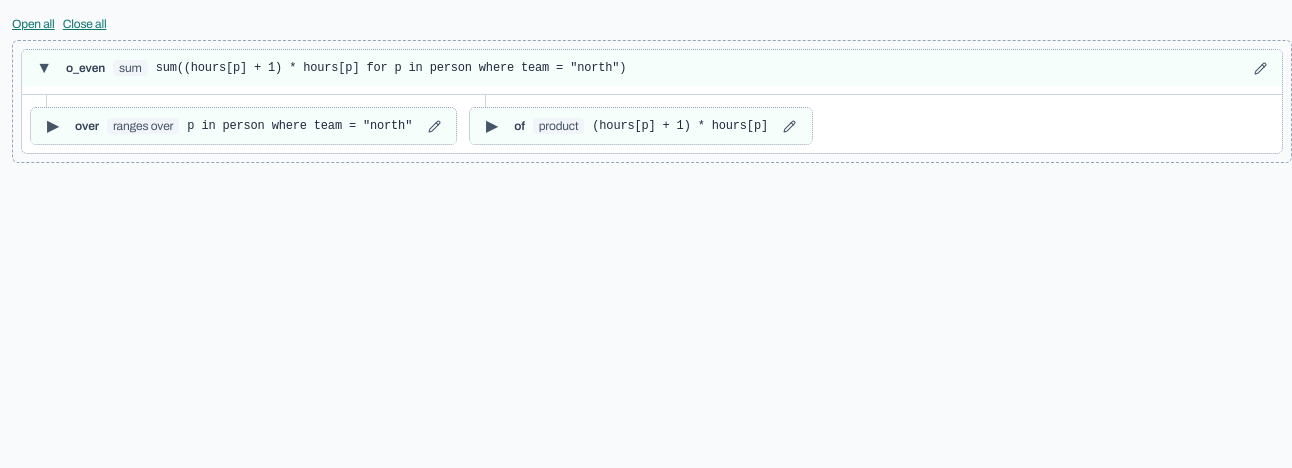
Test: walks down a goal recursively, one box at a time, to its leaves
Click the button named "Open over": (53, 126) [39,112,67,140]
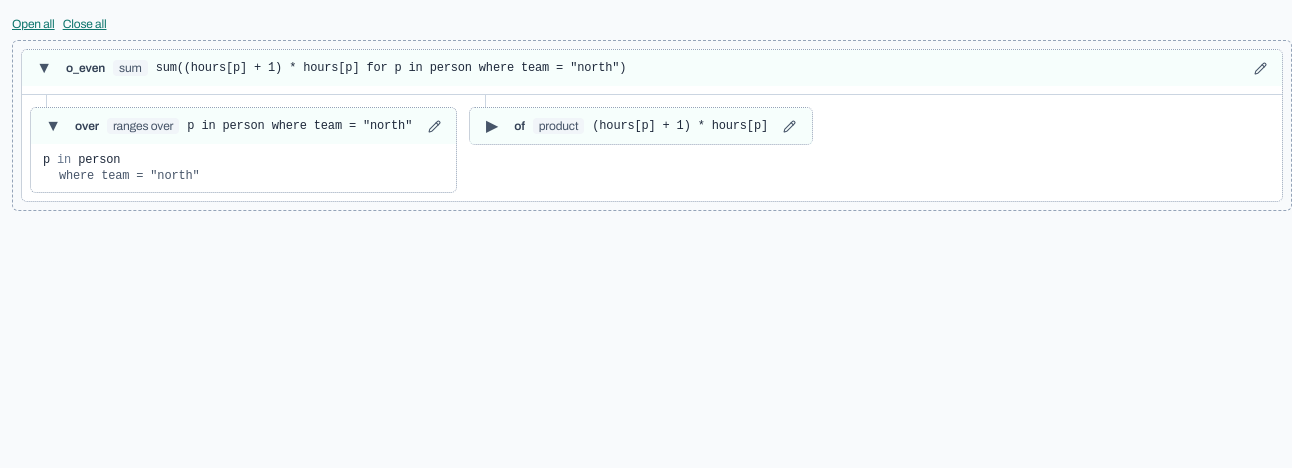
Expected: the list item reads "p in person where team = \"north\"", [43,153,200,183]
Click the button named "Open of": (492, 126) [478,112,506,140]
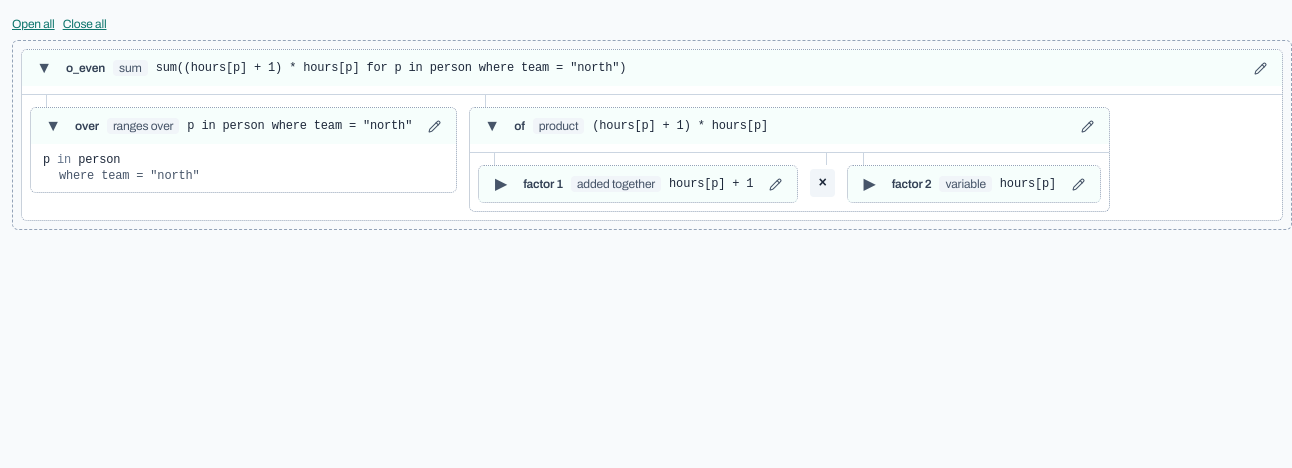
Expected: the text "×" is shown, [810,169,835,197]
Click the button named "Open factor 1": (501, 184) [487,170,515,198]
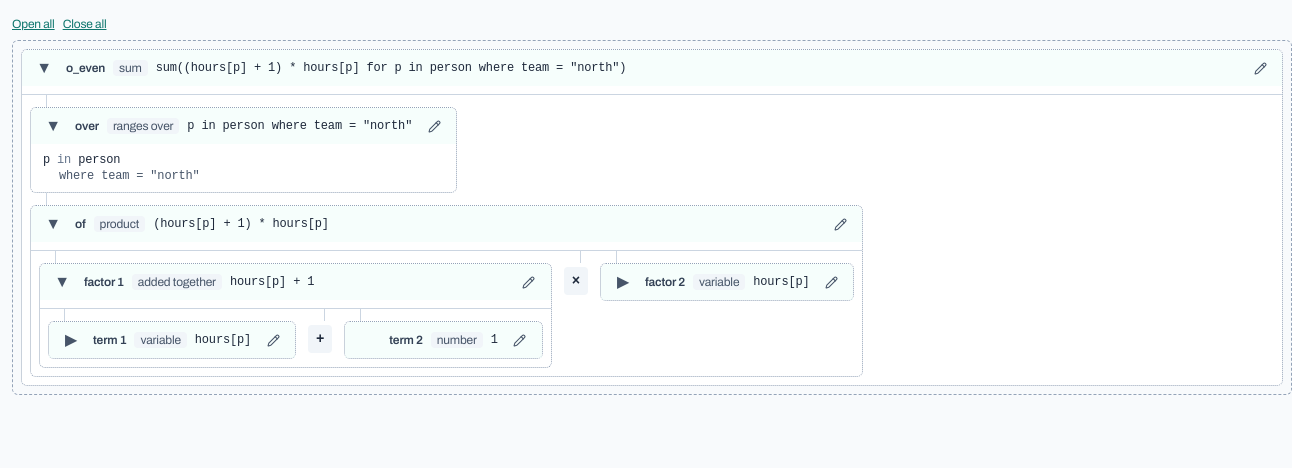
Expected: the text "+" is shown, [308,325,332,353]
Click the button named "Open term 1": (71, 340) [57,326,85,354]
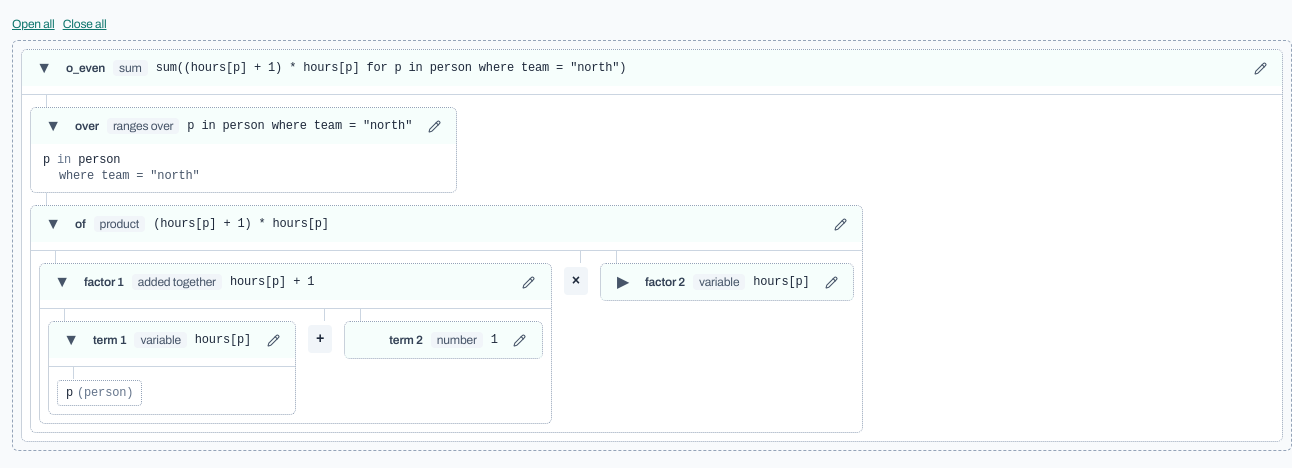
Expected: the text "(person)" is shown, [77,386,133,400]
